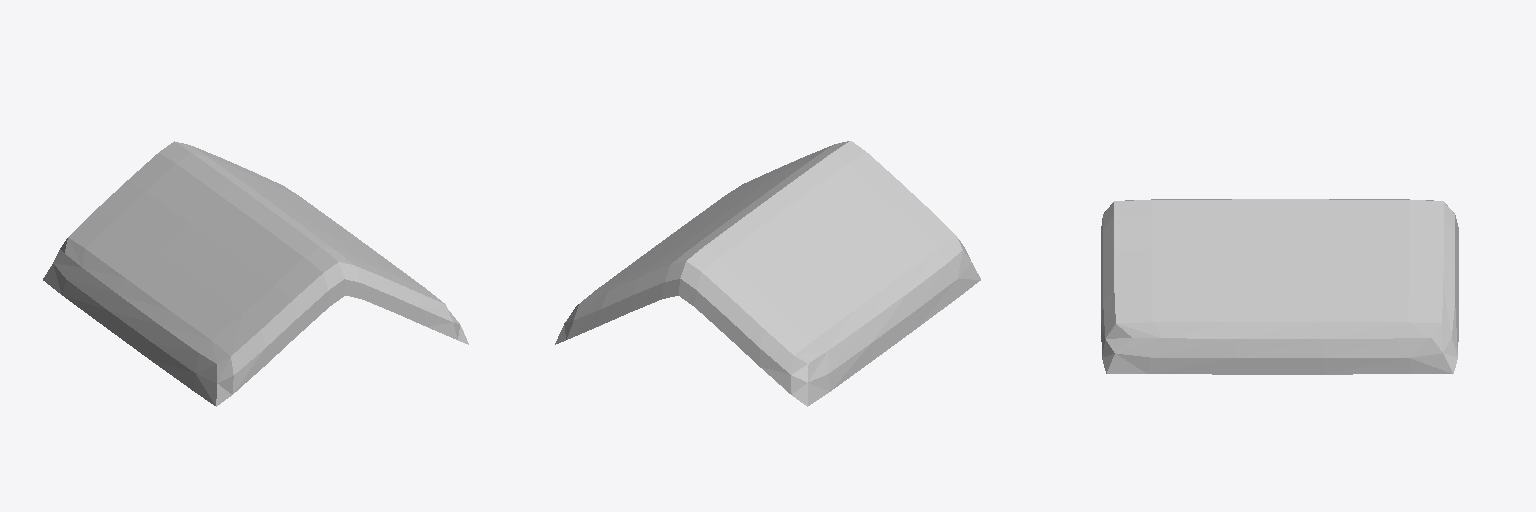
File: snow_roof.obj
3 renders of one model, left to right at view 1: azimuth 30°, elevation 25°; view 2: azimuth 150°, elevation 25°; view 3: azimuth 270°, elevation 25°, orthographic.
Parts seen in each view (by area): view 1: snow_roof_Cube.001; view 2: snow_roof_Cube.001; view 3: snow_roof_Cube.001.
Boxes of the visible parts, x1=… form: snow_roof_Cube.001: x1=43, y1=141, x2=468, y2=406; snow_roof_Cube.001: x1=555, y1=141, x2=980, y2=406; snow_roof_Cube.001: x1=1101, y1=199, x2=1458, y2=374.
Size of the model in its own units: 5.93 by 2.5 by 7.18.